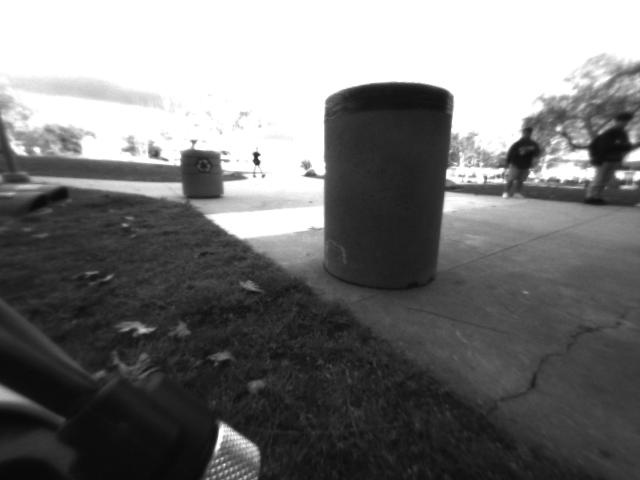trashcan: (309, 73, 456, 303), (177, 146, 228, 203)
